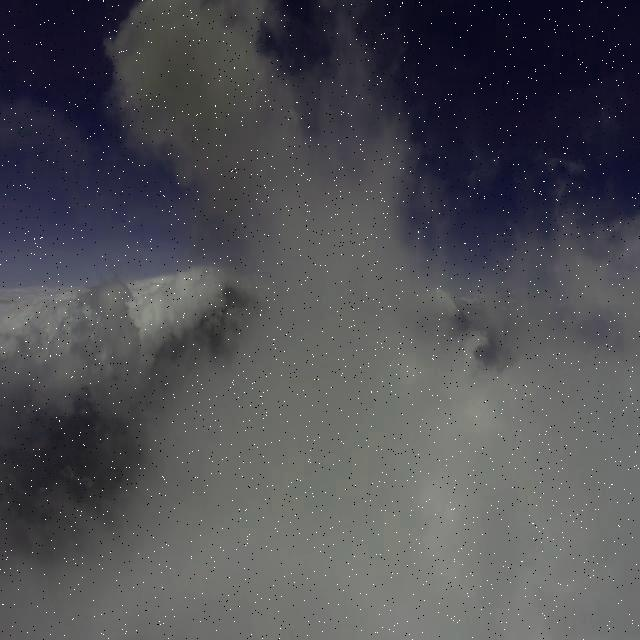Plume: (100, 0, 302, 230)
